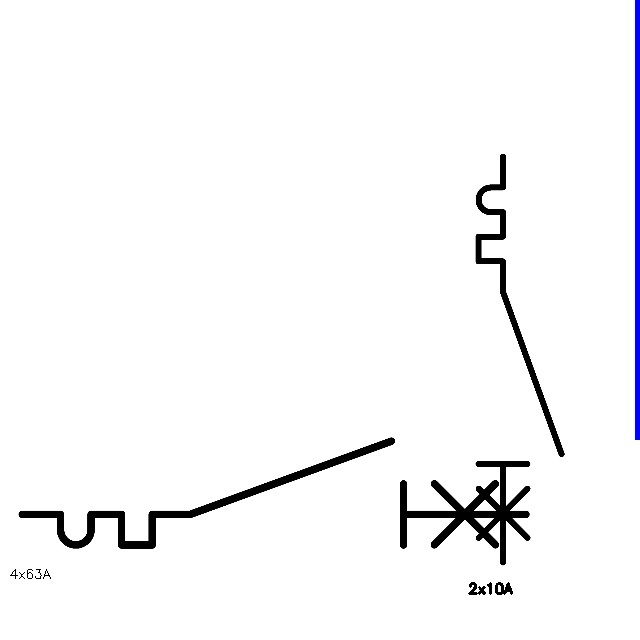interruptor_termomagnetico: (9, 428, 539, 558), (468, 146, 572, 572)
